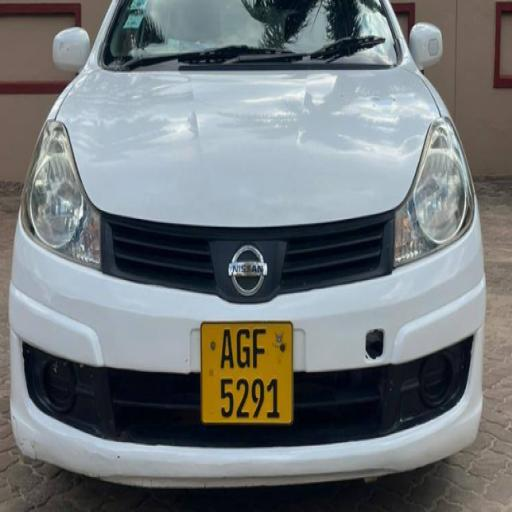number-plates: (200, 320, 293, 437)
